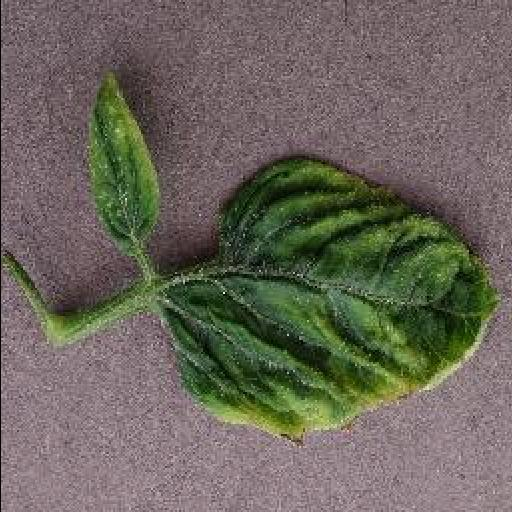disease_tomato: (154, 152, 496, 448)
